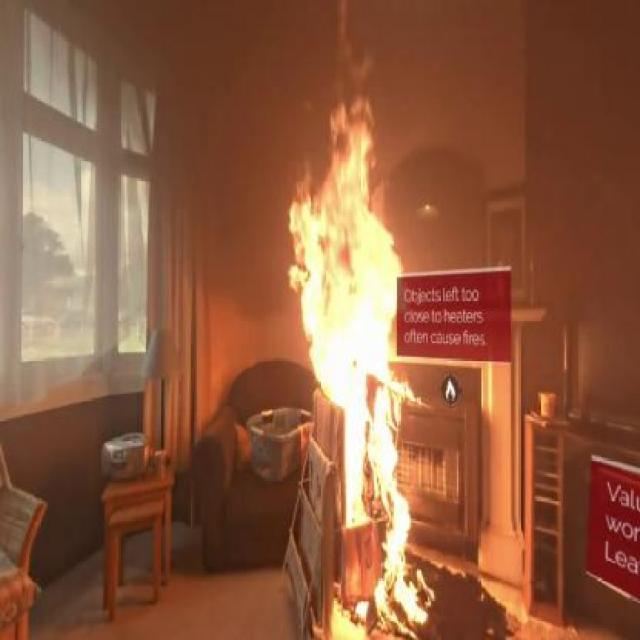fire: (302, 136, 430, 622)
smoke: (178, 1, 288, 314)
